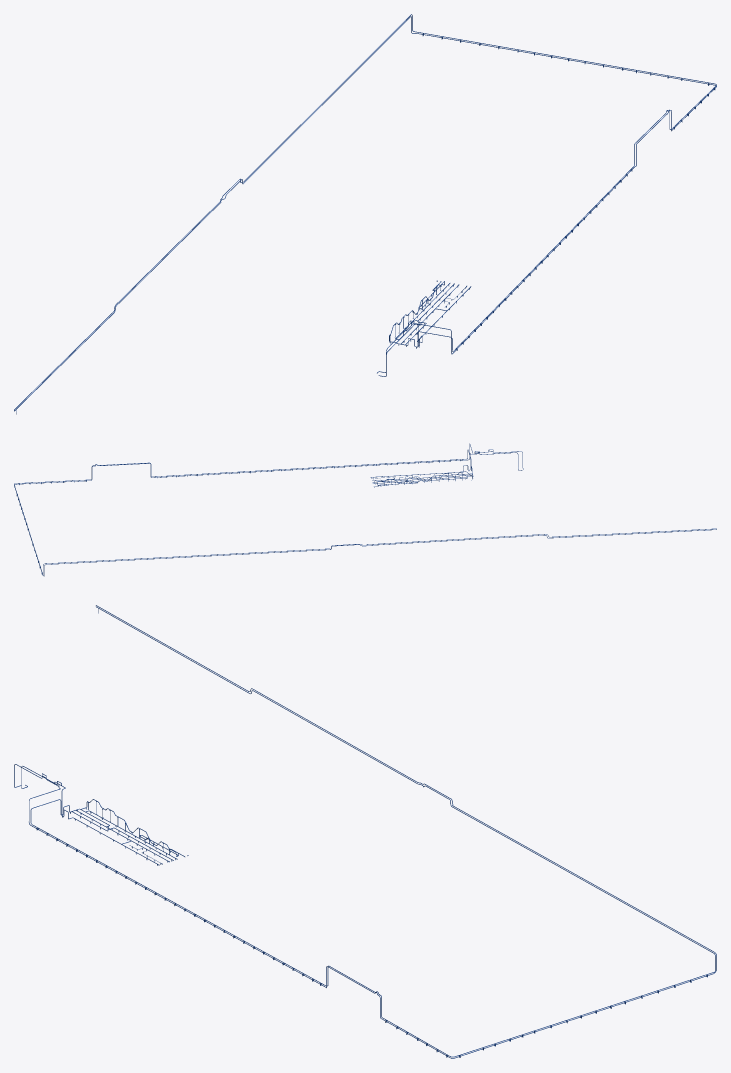
3 renders of one model, top to bottom at view 1: azimuth 30°, elevation 25°; view 2: azimuth 150°, elevation 25°; view 3: azimuth 270°, elevation 25°, orthographic. The views are drawn at different scales.
Parts seen in each view (by area): view 1: 管道70, 管道75; view 2: 管道75, 管道70, 管道77, 管道73, 管道68, 管道72; view 3: 管道75, 管道70.
Part boxes in pixels (<box>): 管道70: <box>241,16,716,183</box>; 管道75: <box>239,14,716,182</box>; 管道75: <box>14,464,333,574</box>; 管道70: <box>14,465,333,576</box>; 管道77: <box>335,528,716,546</box>; 管道73: <box>99,459,464,476</box>; 管道68: <box>96,458,469,477</box>; 管道72: <box>335,529,714,546</box>; 管道75: <box>377,798,716,1057</box>; 管道70: <box>378,798,715,1058</box>.
Size of the model in its own units: 358 by 12.22 by 245.
